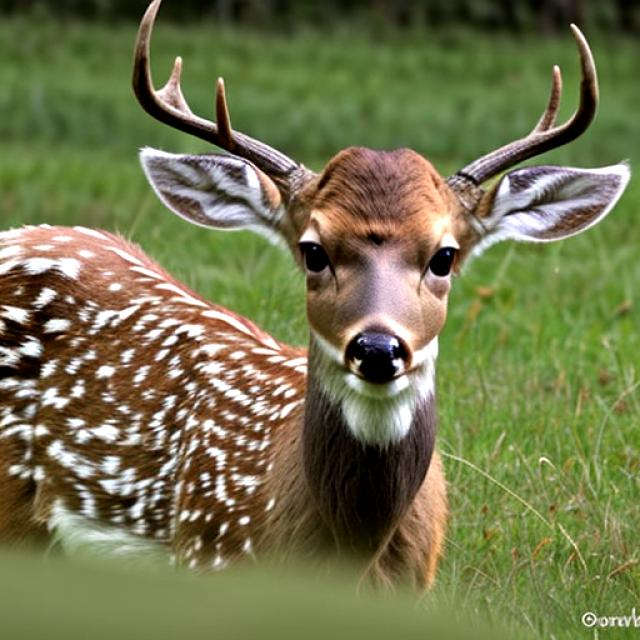deer: (0, 8, 625, 470)
